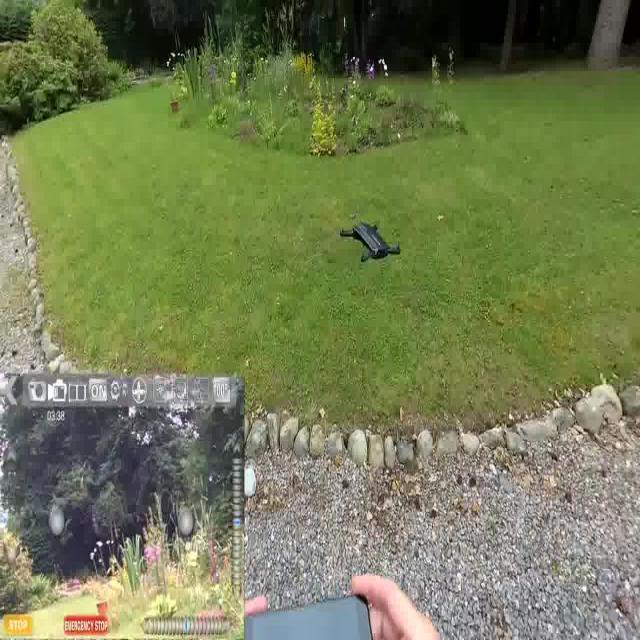drone: (336, 214, 404, 270)
